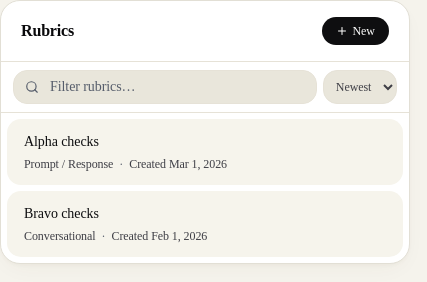
RubricsPanel — populated list › filters the list by name and shows the no-match state
In the field named "Filter rubrics by name": (165, 87) [13,70,317,104], type "bravo"
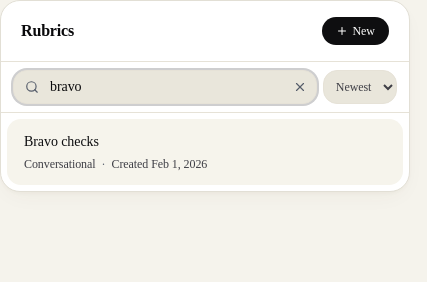
Expected: the text "Bravo checks" is shown, [24,132,99,152]
Result: the button "Alpha checks" is gone
Replace the text in the field named "Filter rubrics by name" with "no such rubric": (165, 87) [13,70,317,104]
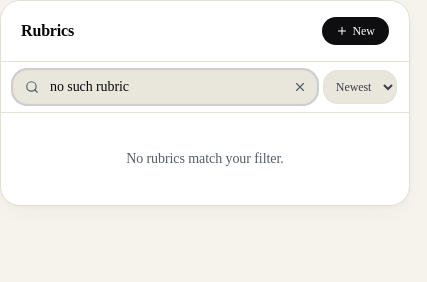
Result: the text "No rubrics match your filter." is shown at [126,149,284,169]
Click the button named "Clear filter": (300, 87) [293,80,307,94]
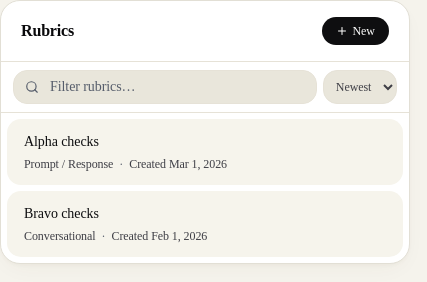
Result: the text "Bravo checks" is shown at [24,204,99,224]
Result: the text "Alpha checks" is shown at [24,132,99,152]
